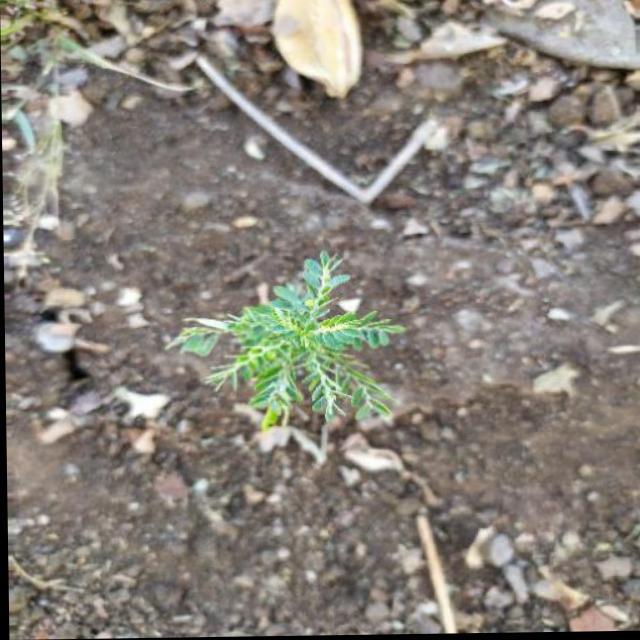weed: (175, 218, 431, 473)
